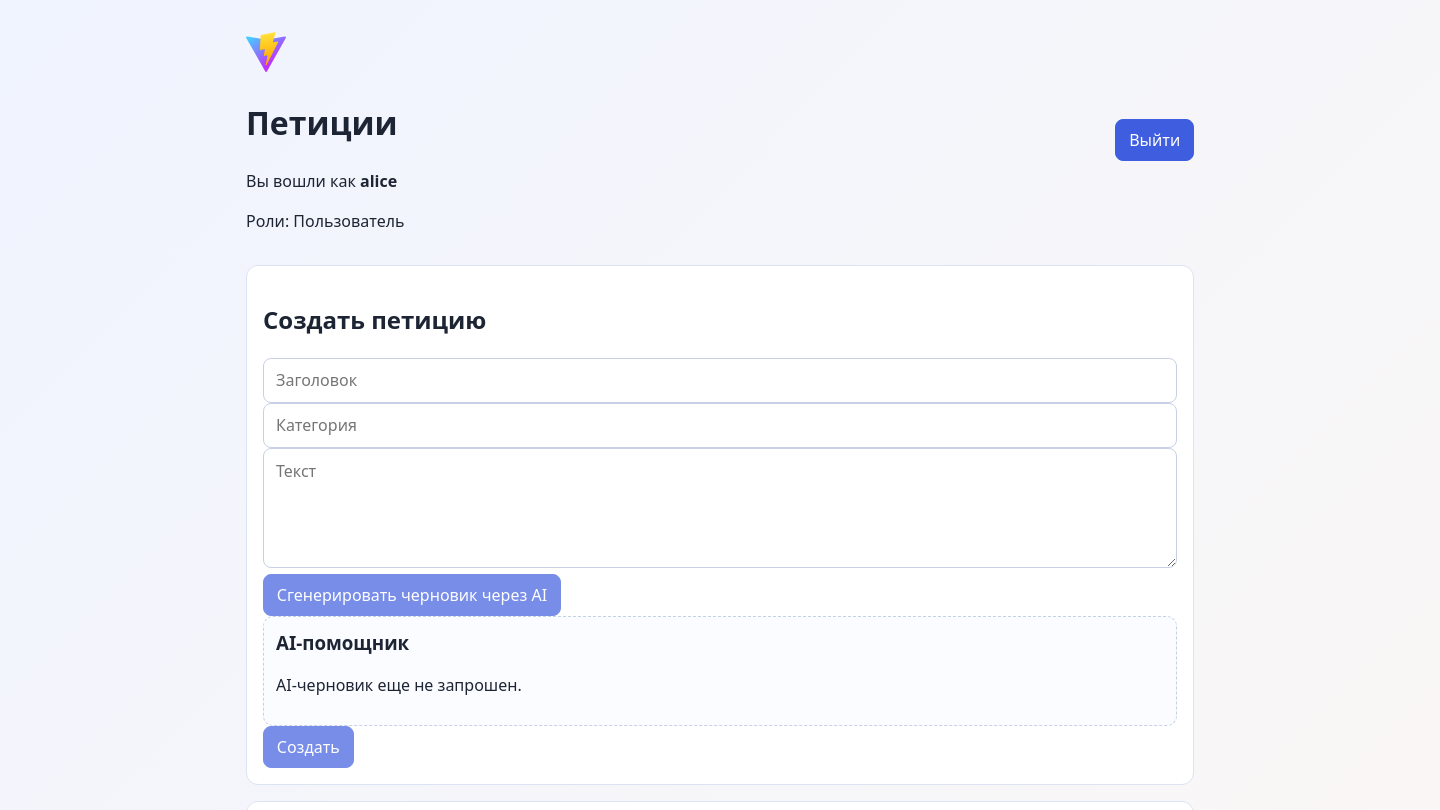
PetitionsPage › surfaces server validation errors on create
This screenshot has width=1440, height=810.
Type "Better roads" into the field with placeholder "Заголовок". click: (720, 380)
box: [263,358,1177,403]
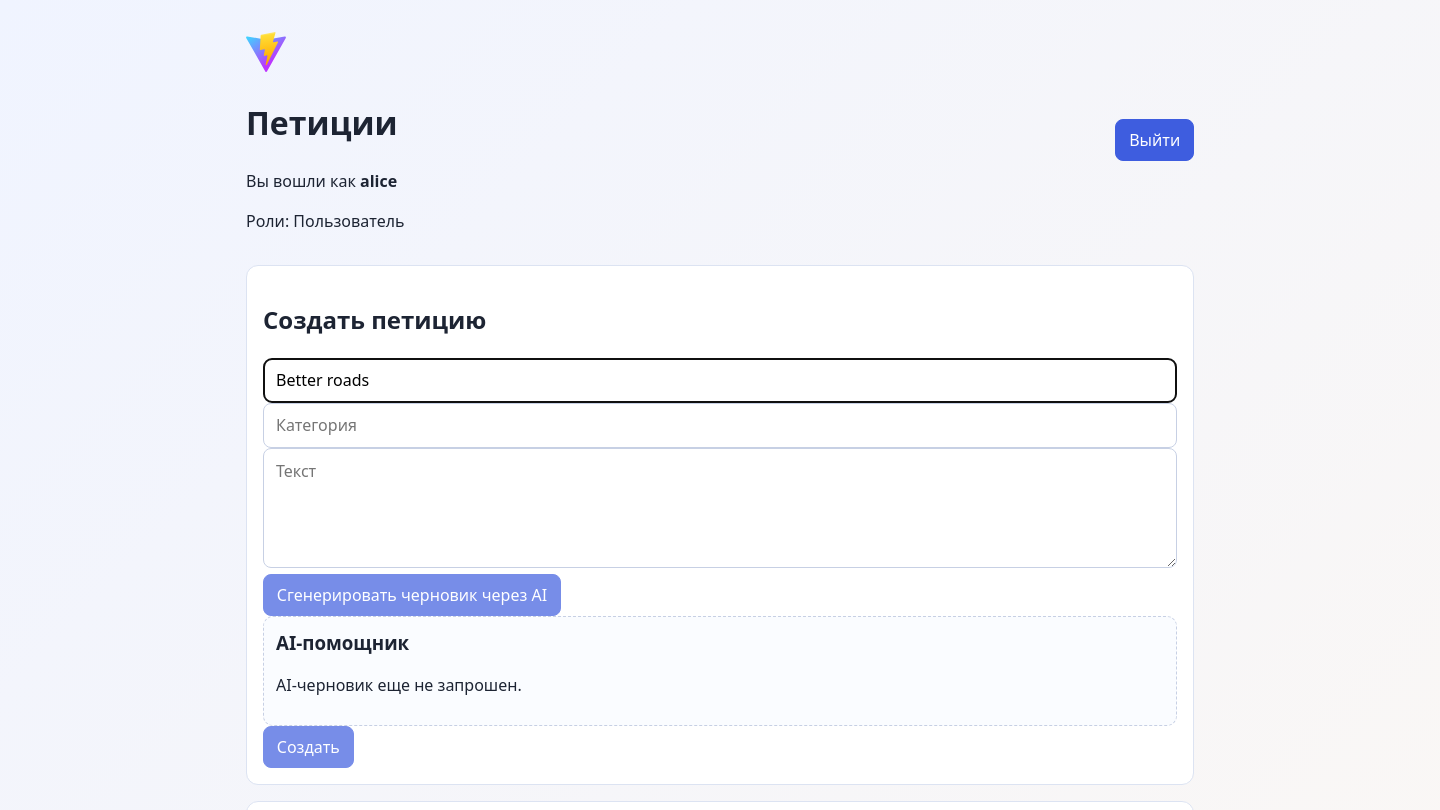
Type "This is a long enough petition text." into the text box with placeholder "Текст". click: (720, 508)
box: [263,448,1177,568]
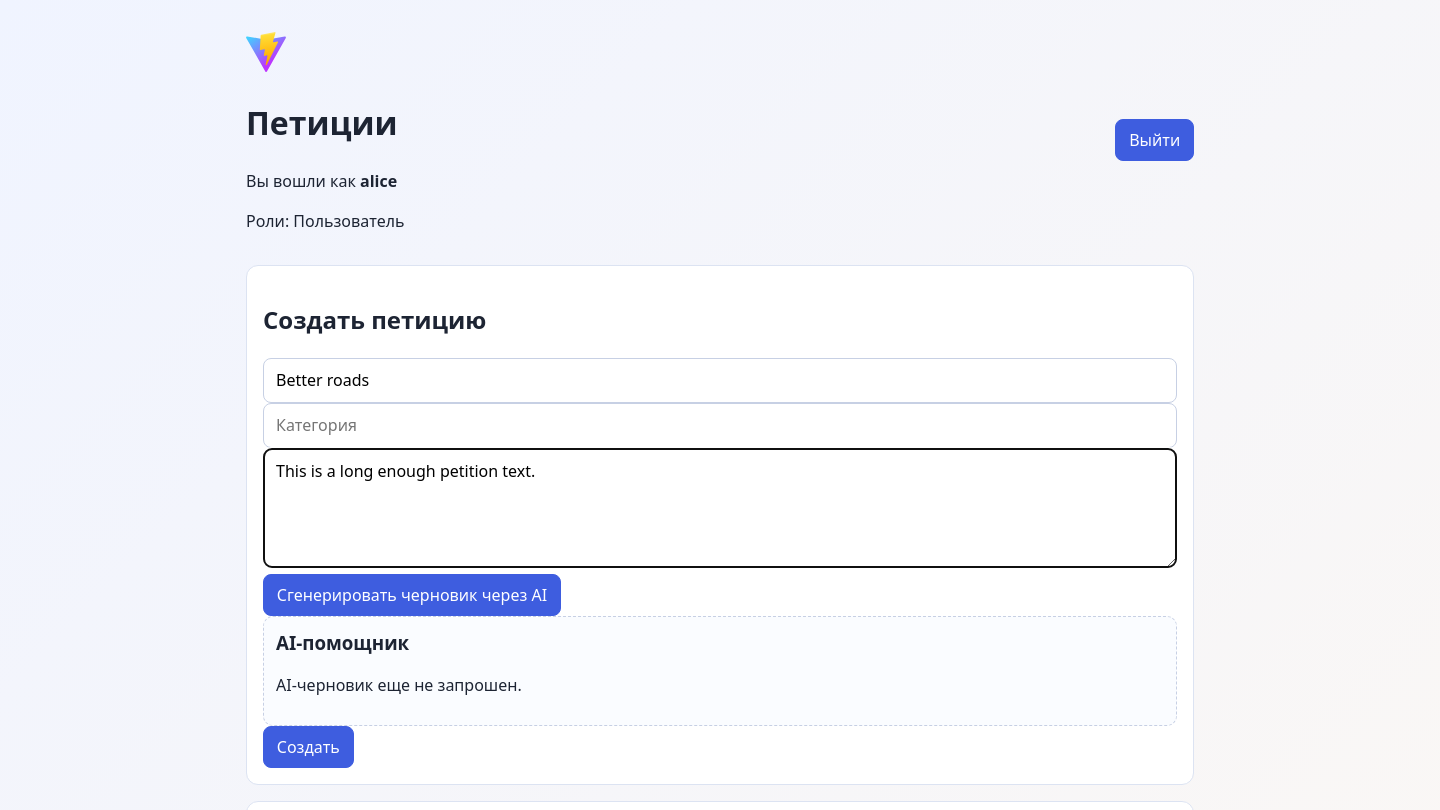
Click the button "Создать". click: (308, 747)
box: [263,726,354,768]
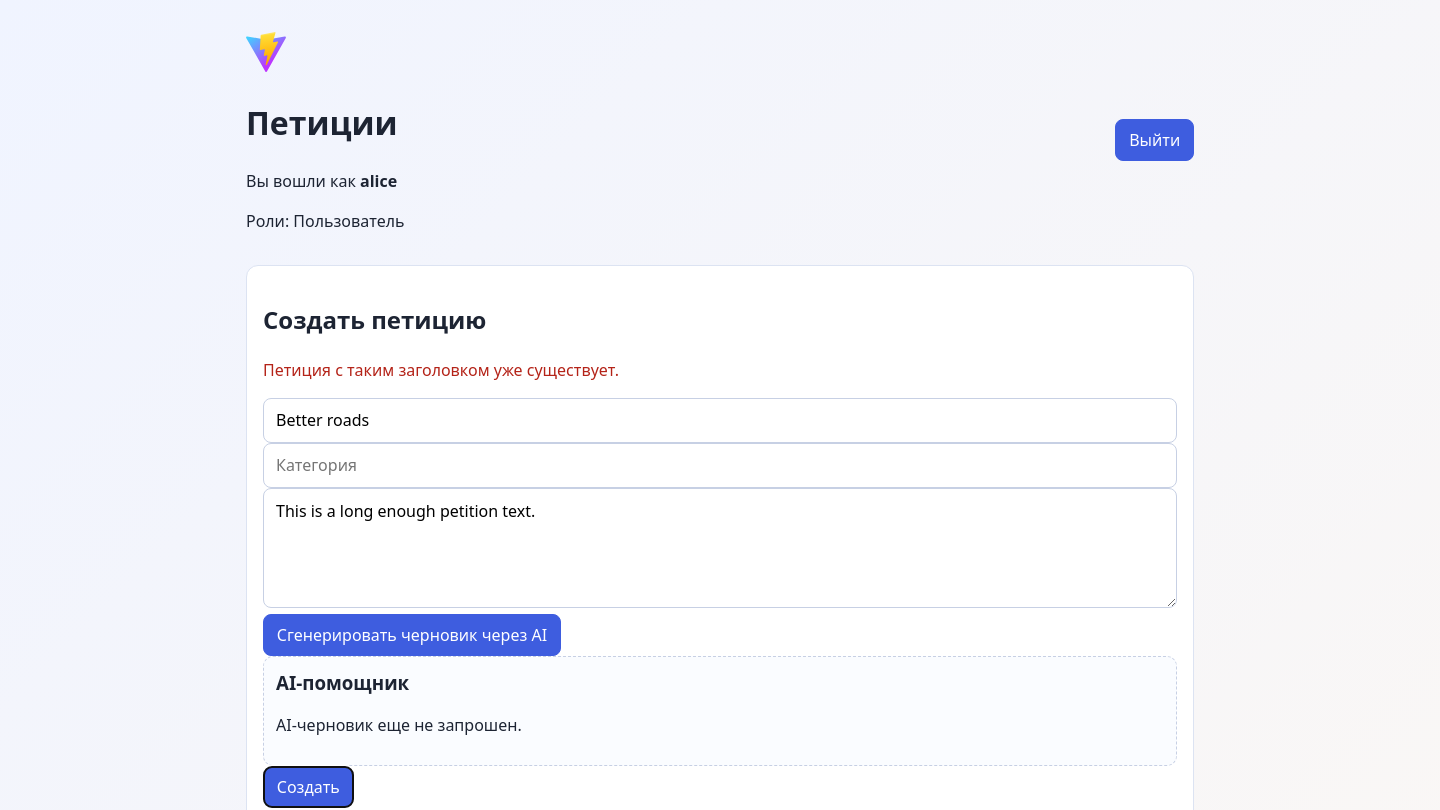
Now the text "Петиция с таким заголовком уже существует." is shown 2 times
